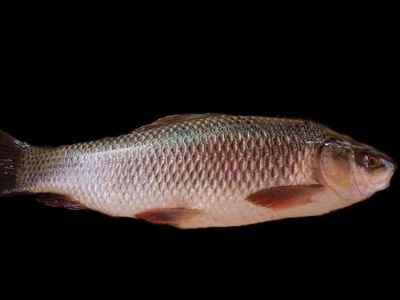rohu: (6, 108, 399, 232)
